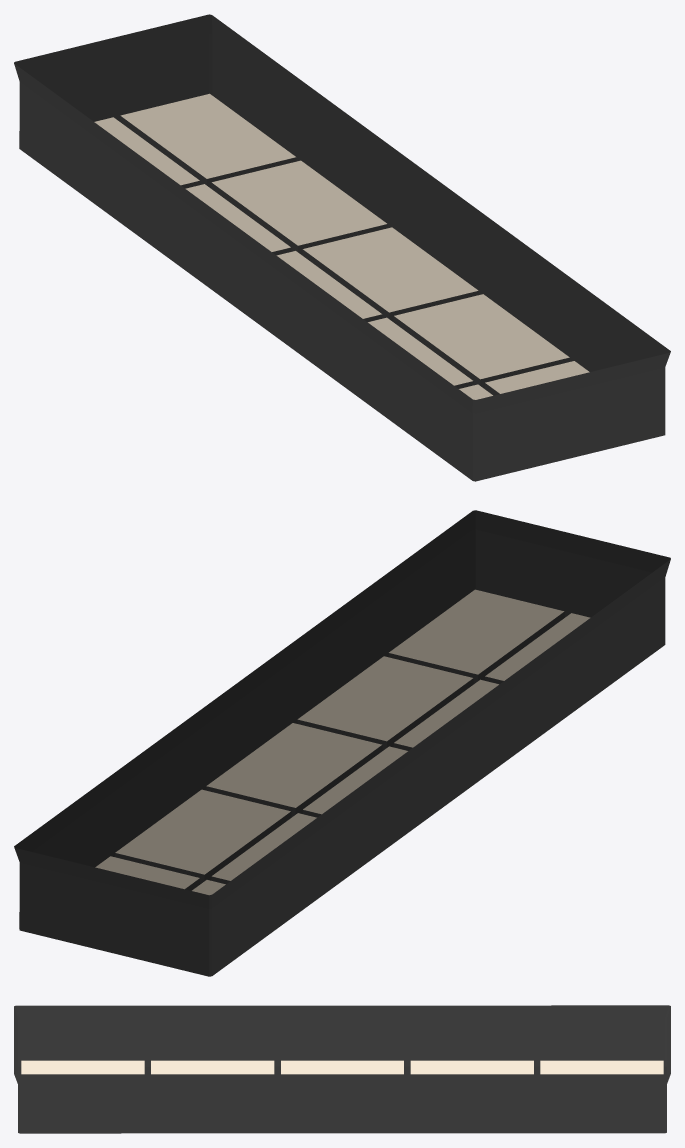
The picture shows the model from 3 angles, top to bottom: view 1: azimuth 30°, elevation 25°; view 2: azimuth 150°, elevation 25°; view 3: azimuth 270°, elevation 25°; orthographic projection. The views are drawn at different scales.
Parts seen in each view (by area): view 1: FP221:Base1_3e64532a; view 2: FP221:Base1_3e64532a; view 3: FP221:Base1_3e64532a.
Part boxes in pixels (x1,y1,x2,y2): FP221:Base1_3e64532a: (14, 14, 670, 481); FP221:Base1_3e64532a: (14, 510, 670, 976); FP221:Base1_3e64532a: (14, 1005, 670, 1133).
Size of the model in its own units: 0.2849 by 0.1162 by 1.15.
